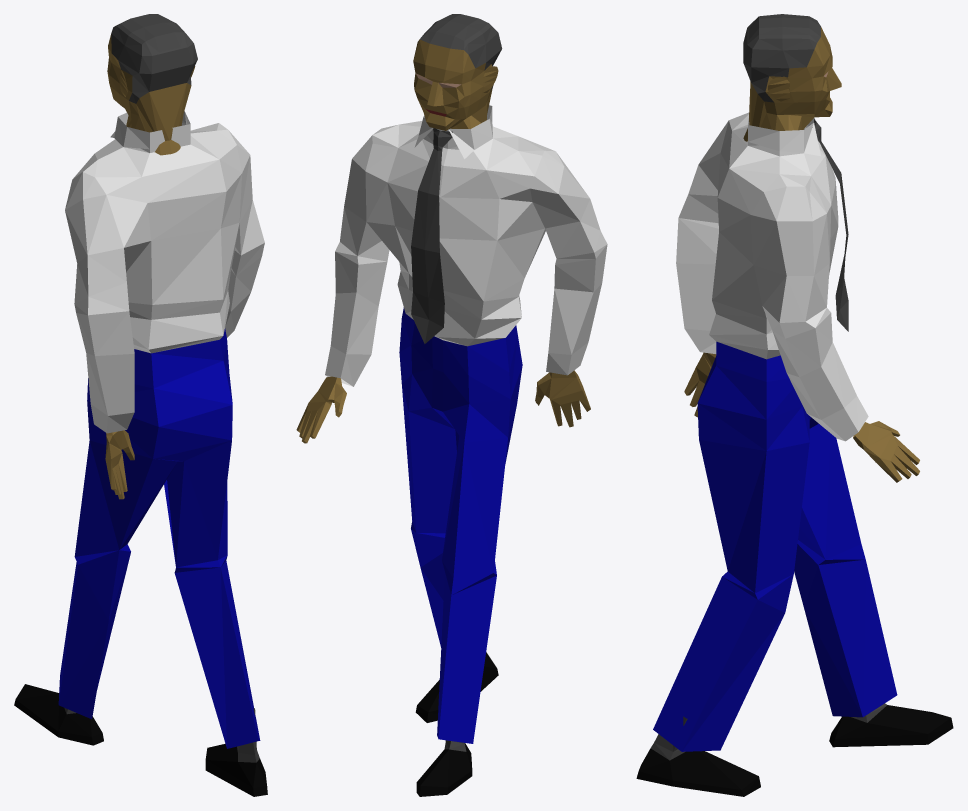
File: person4.fbx
3 views of the same model, side by side, from view 1: azimuth 30°, elevation 25°; view 2: azimuth 150°, elevation 25°; view 3: azimuth 270°, elevation 25° (orthographic). The views are drawn at different scales.
Parts seen in each view (by area): view 1: -PANTS; view 2: -PANTS; view 3: -PANTS.
Boxes of the visible parts, x1,y1,x2,y2 form: -PANTS: (14, 14, 267, 796); -PANTS: (296, 14, 607, 796); -PANTS: (636, 14, 953, 796).
Bounding box in the file's own units: 0.7379 × 0.9138 × 2.37.
